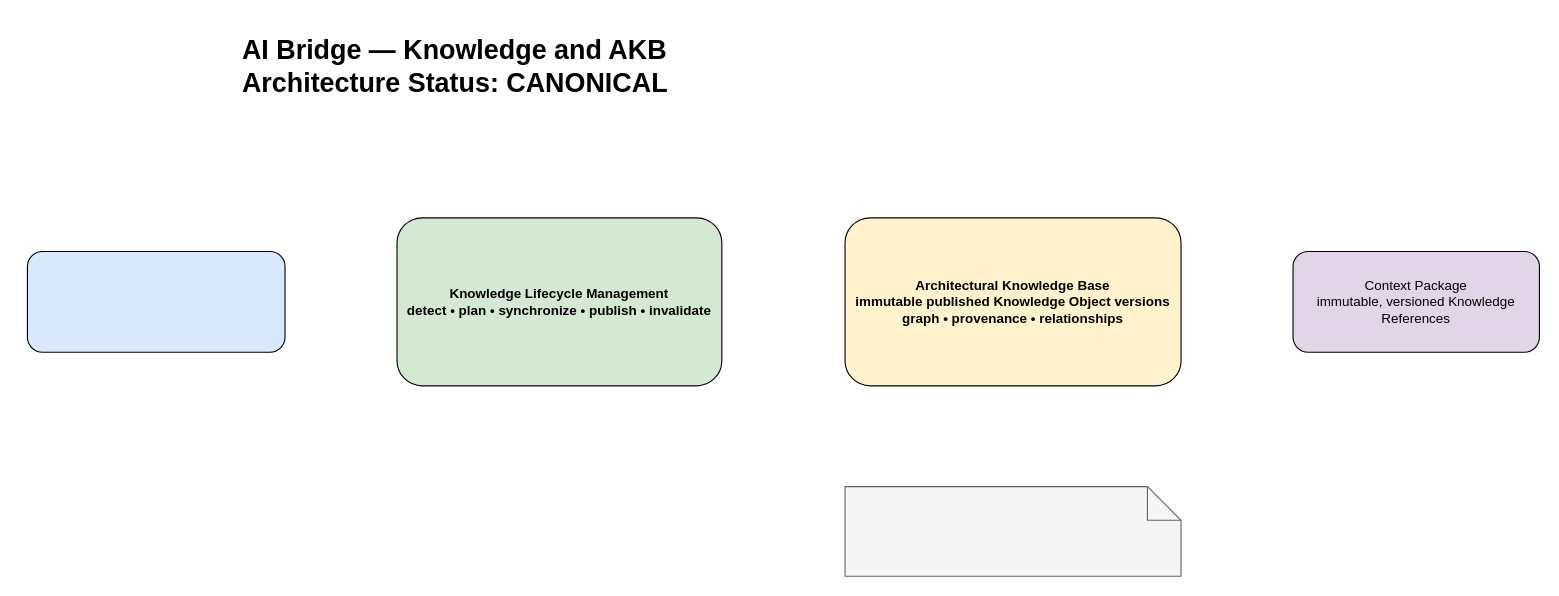
Some shapes in this 1559 by 596 pixel diagram are drawn without their labels. The box of each missing label's shape, as (x1, y1, x2, y2) in pixels:
Authoritative Sources Repository • decisions • evidence • integrations: (26, 250, 285, 352)
Operational data is excluded logs • cache • session • execution state: (844, 486, 1181, 576)
